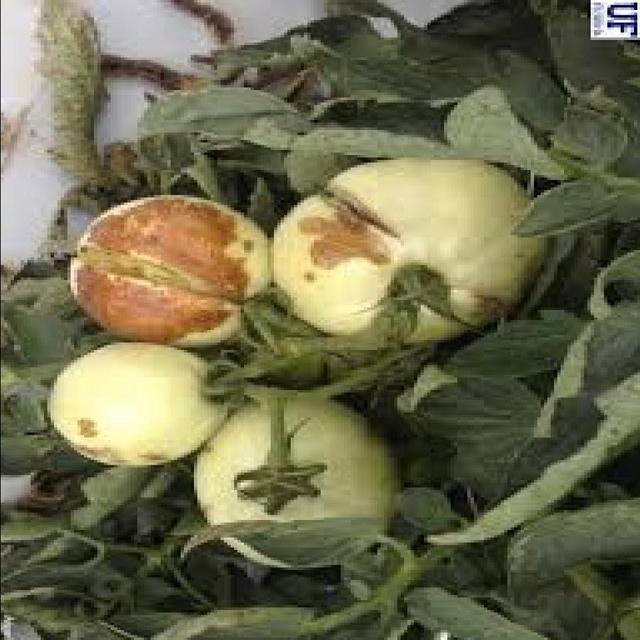Spotted wilt Virus Fruit: (136, 130, 284, 273)
